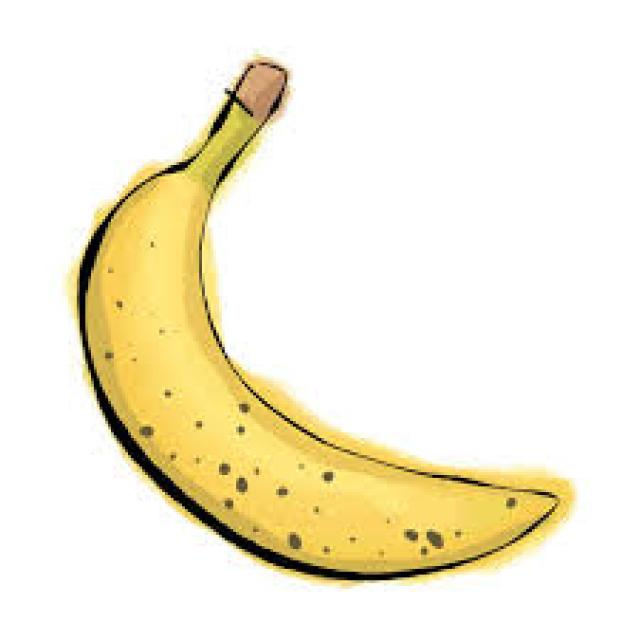banana: (71, 54, 575, 583)
